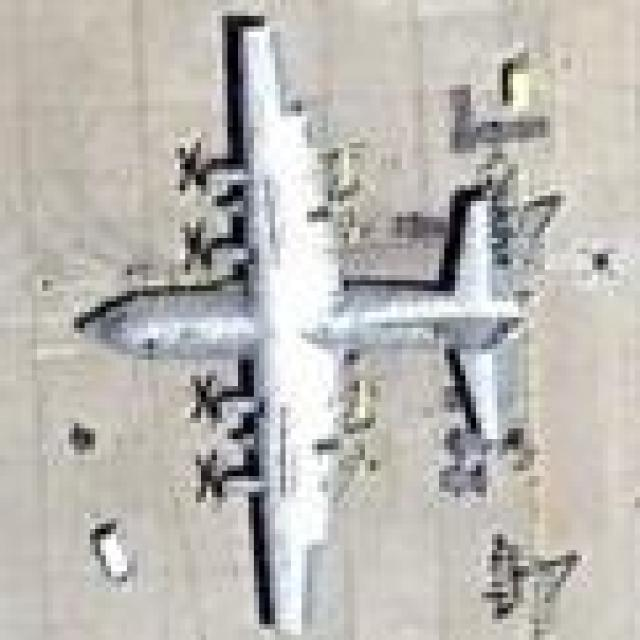C-130_TopDown: (72, 11, 532, 638)
